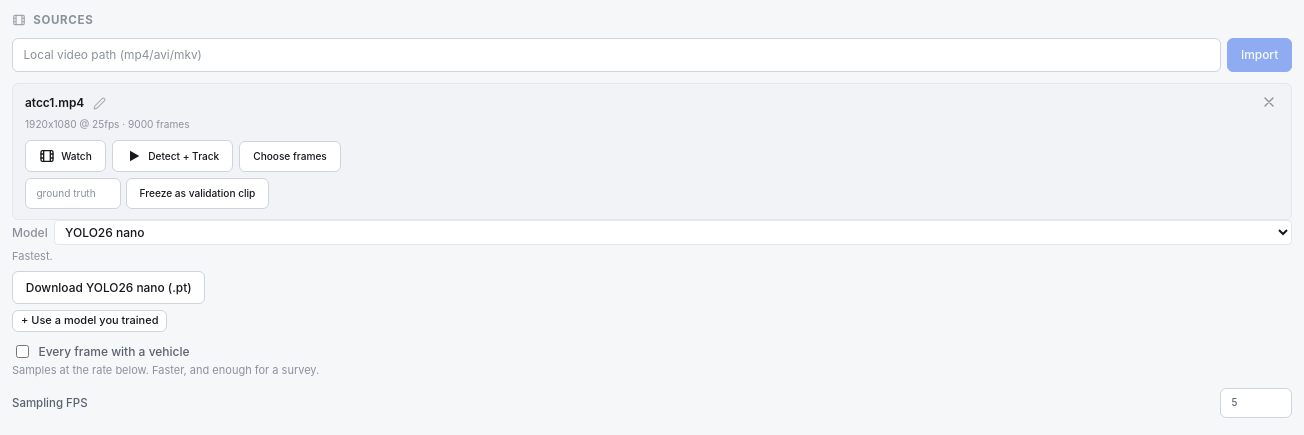
Scenario: Choosing the detection model › says when a model has to be downloaded before it can run
The width and height of the screenshot is (1304, 435).
Step 1. Select "YOLO26 small" in the dropdown labelled "Model" → [673, 233], box left=54, top=220, right=1292, bottom=245
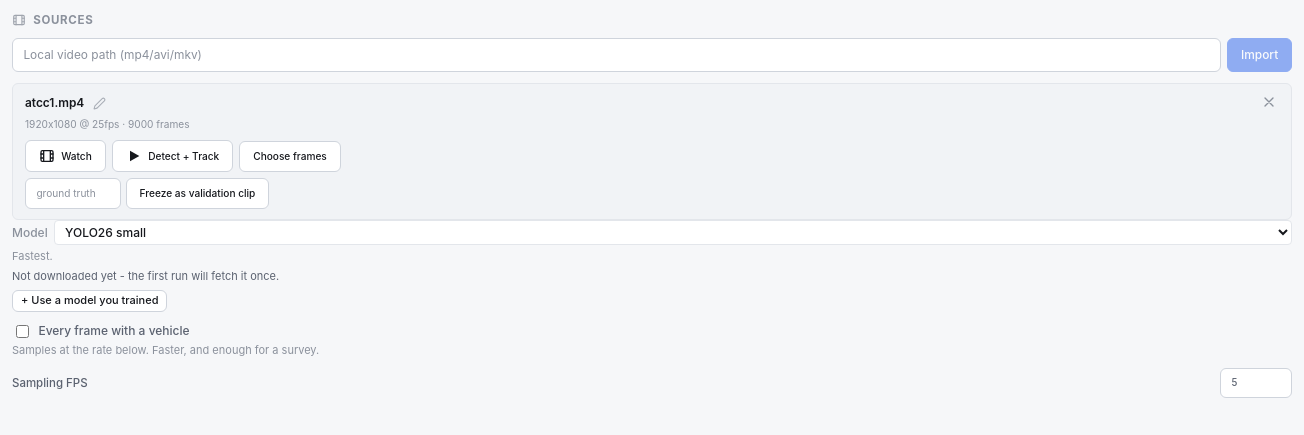
Expected: the text "Not downloaded yet - the first run will fetch it once." is shown, left=12, top=269, right=279, bottom=283
